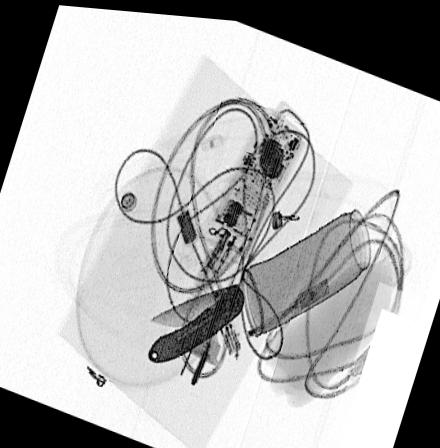Knife: (145, 275, 248, 359)
